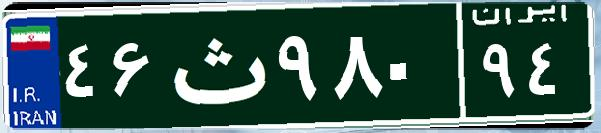0: (385, 28, 445, 110)
4: (57, 26, 110, 107), (525, 38, 570, 115)
6: (110, 28, 158, 105)
8: (330, 28, 385, 110)
9: (273, 28, 330, 110), (475, 38, 525, 113)
ث: (158, 15, 273, 115)
